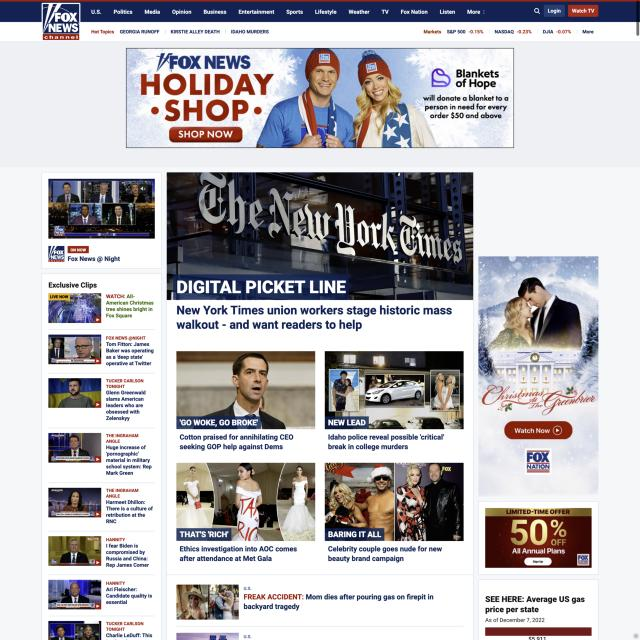logo: (41, 3, 81, 41)
navigation: (90, 7, 487, 19), (90, 28, 270, 38)
video: (48, 579, 102, 610), (48, 293, 102, 323), (48, 335, 102, 365), (48, 378, 102, 408), (48, 488, 102, 518), (48, 536, 102, 566), (49, 433, 101, 463)
